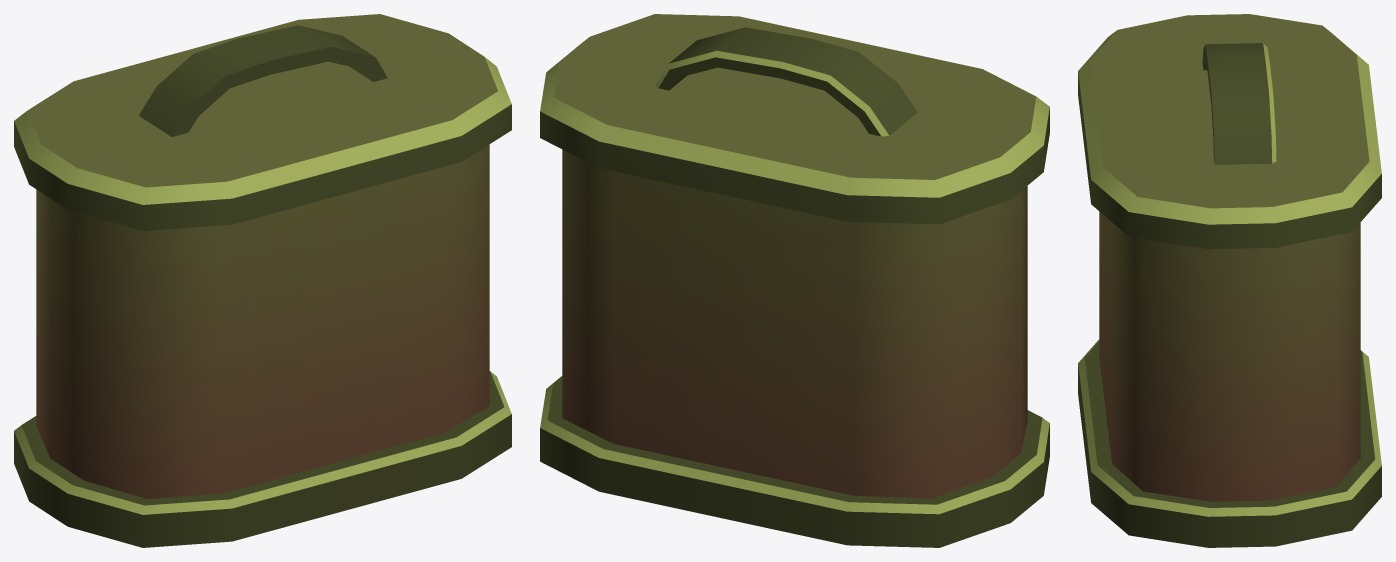
Rendered from Ammo box.fbx.
3 renders of one model, left to right at view 1: azimuth 30°, elevation 25°; view 2: azimuth 150°, elevation 25°; view 3: azimuth 270°, elevation 25°, orthographic. The views are drawn at different scales.
Parts seen in each view (by area): view 1: Ammo box; view 2: Ammo box; view 3: Ammo box.
Part boxes in pixels (x1=…): Ammo box: x1=14, y1=14, x2=511, y2=547; Ammo box: x1=540, y1=14, x2=1049, y2=547; Ammo box: x1=1078, y1=14, x2=1381, y2=547.
Size of the model in its own units: 69.4 by 60.26 by 43.51.
